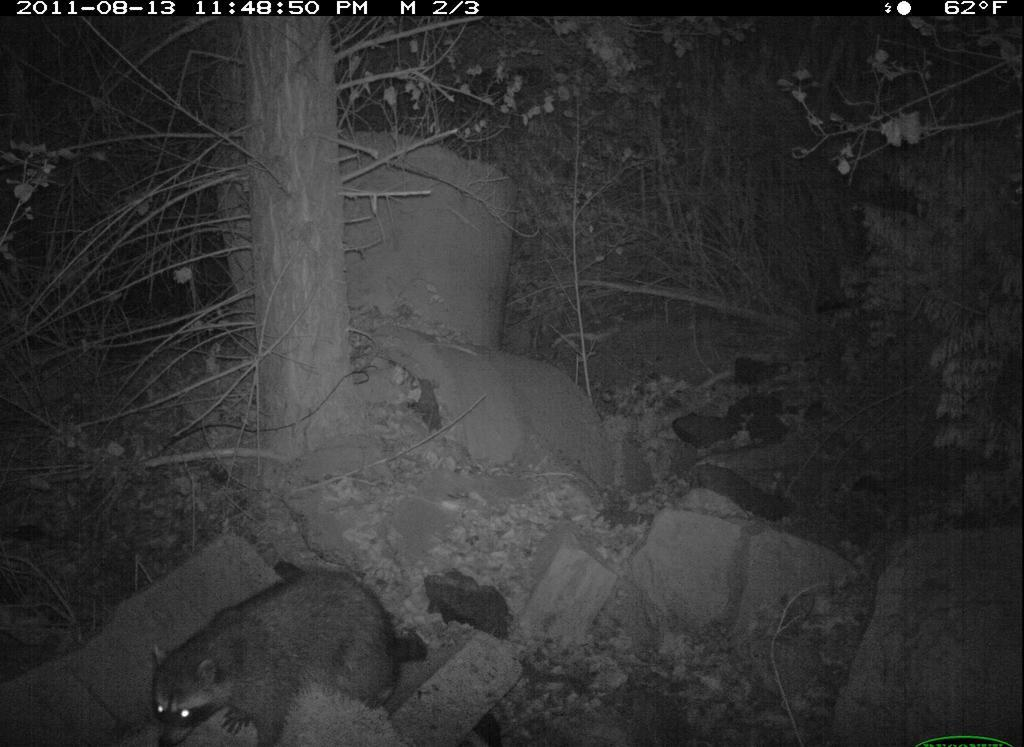raccoon: (143, 562, 443, 747)
